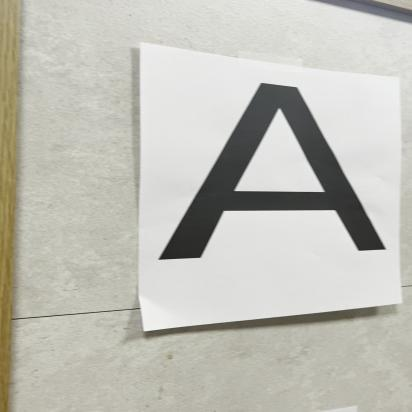seat: (159, 79, 412, 264)
